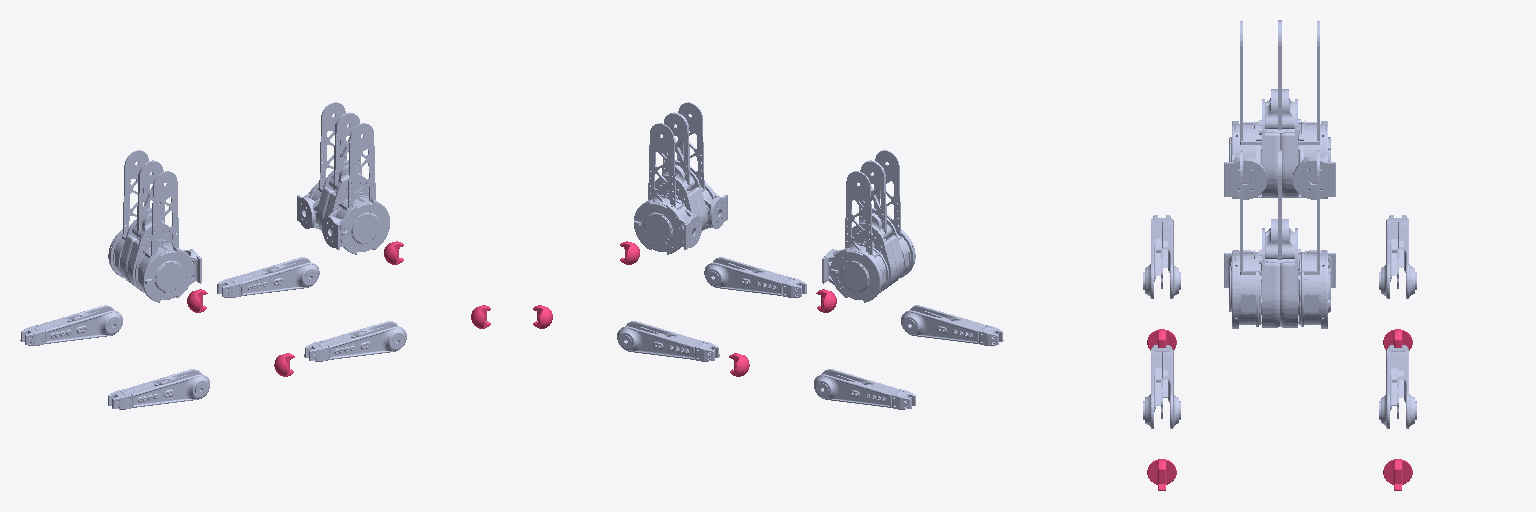
The robot description file, URDF, robot "dog_urdf":
<robot name="dog_urdf">
  <link name="base_link">
    <inertial>
      <origin xyz="-0.0023050784941594 0.000787651476062384 0.00938957145256008" rpy="0 0 0" />
      <mass value="9.0000000000" />
      <inertia ixx="1.48064835303494e-02" ixy="3.53171339749283e-06" ixz="6.62261094637585e-07" iyy="1.51006055478917e-02" iyz="7.33763291488142e-07" izz="1.52899635039474e-02" />
    </inertial>
    <visual>
      <origin xyz="0 0 0" rpy="3.14159 0 0" />
      <geometry>
        <mesh filename="../meshes/base_link.STL" />
      </geometry>
      <material name="body_material">
        <color rgba="0.792156862745098 0.819607843137255 0.933333333333333 1" />
      </material>
    </visual>
    <collision>
      <origin xyz="0 0 0.01" rpy="0 0 0" />
      <geometry>
        <box size="0.30 0.12 0.08" />
      </geometry>
    </collision>
  </link>
  <link name="FL_hip">
    <inertial>
      <origin xyz="0.0586708362293079 0.00174712967469963 -7.8795421490147E-05" rpy="0 0 0" />
      <mass value="0.2463205344" />
      <inertia ixx="1.55954745885730e-04" ixy="-1.45018353691360e-07" ixz="-3.56603783394617e-07" iyy="2.63543430858874e-04" iyz="-2.77546614232254e-08" izz="1.37377859042318e-04" />
    </inertial>
    <visual>
      <origin xyz="0 0 0" rpy="3.14159 0 0" />
      <geometry>
        <mesh filename="../meshes/FL_hip.STL" />
      </geometry>
      <material name="body_material">
        <color rgba="0.792156862745098 0.819607843137255 0.933333333333333 1" />
      </material>
    </visual>
    <collision>
      <origin xyz="0.03 0 0" rpy="0 1.5708 0" />
      <geometry>
        <cylinder radius="0.025" length="0.06" />
      </geometry>
    </collision>
  </link>
  <joint name="FL_hip_joint" type="revolute">
    <origin xyz="0.1426 0.046487 0" rpy="0 0 0" />
    <parent link="base_link" />
    <child link="FL_hip" />
    <axis xyz="1 0 0" />
    <dynamics damping="0.0" friction="0.0" />
    <limit lower="-0.5" upper="0.5" effort="40" velocity="12" />
  </joint>
  <link name="FL_thigh">
    <inertial>
      <origin xyz="3.96131492397256E-06 0.0530216135226285 -0.0127549994713949" rpy="0 0 0" />
      <mass value="1.0473704250" />
      <inertia ixx="1.07009014708276e-03" ixy="-2.71116309698148e-07" ixz="-7.25224218900565e-07" iyy="1.53584383900832e-03" iyz="-1.67886572726257e-05" izz="8.27337160030995e-04" />
    </inertial>
    <visual>
      <origin xyz="0 0 0" rpy="3.14159 0 0" />
      <geometry>
        <mesh filename="../meshes/FL_thigh.STL" />
      </geometry>
      <material name="body_material">
        <color rgba="0.792156862745098 0.819607843137255 0.933333333333333 1" />
      </material>
    </visual>
    <collision>
      <origin xyz="0 0.055 -0.09" rpy="0 0.35 0" />
      <geometry>
        <cylinder radius="0.03" length="0.18" />
      </geometry>
    </collision>
  </link>
  <joint name="FL_thigh_joint" type="revolute">
    <origin xyz="0.0645133382530963 0.0204632257018415 0" rpy="0 0 0" />
    <parent link="FL_hip" />
    <child link="FL_thigh" />
    <axis xyz="0 1 0" />
    <dynamics damping="0.0" friction="0.0" />
    <limit lower="-1.90" upper="1.92" effort="55" velocity="14" />
  </joint>
  <link name="FL_calf">
    <inertial>
      <origin xyz="3.05292895786818E-05 -9.36885009469417E-05 -0.0670819670227258" rpy="0 0 0" />
      <mass value="0.1871429953" />
      <inertia ixx="3.71936645048264e-04" ixy="1.02703586535616e-07" ixz="-3.32826178340773e-07" iyy="3.89065673843671e-04" iyz="-1.37970846722071e-06" izz="2.45204640634943e-05" />
    </inertial>
    <visual>
      <origin xyz="0 0 0" rpy="3.14159 0 0" />
      <geometry>
        <mesh filename="../meshes/FL_calf.STL" />
      </geometry>
      <material name="body_material">
        <color rgba="0.792156862745098 0.819607843137255 0.933333333333333 1" />
      </material>
    </visual>
    <collision>
      <origin xyz="0 0 -0.09" rpy="0 0 0" />
      <geometry>
        <cylinder radius="0.022" length="0.18" />
      </geometry>
    </collision>
  </link>
  <joint name="FL_calf_joint" type="revolute">
    <origin xyz="-1.42640517181852E-05 0.0922000000000003 -0.179998920942403" rpy="0 0 0" />
    <parent link="FL_thigh" />
    <child link="FL_calf" />
    <axis xyz="0 1 0" />
    <dynamics damping="0.0" friction="0.0" />
    <limit lower="-2.80" upper="-0.28" effort="55" velocity="14" />
  </joint>
  <link name="FL_foot">
    <inertial>
      <origin xyz="3.03153155772895E-08 3.64375196681976E-13 0.00474142838422875" rpy="0 0 0" />
      <mass value="0.0191660453" />
      <inertia ixx="2.13676021551699e-06" ixy="-1.60287968570315e-11" ixz="-6.52325547932652e-12" iyy="3.43246034947566e-06" iyz="2.07705959941808e-16" izz="3.15697183363977e-06" />
    </inertial>
    <visual>
      <origin xyz="0 0 0" rpy="3.14159 0 0" />
      <geometry>
        <mesh filename="../meshes/FL_foot.STL" />
      </geometry>
      <material name="foot_material">
        <color rgba="1 0.341176470588235 0.56078431372549 1" />
      </material>
    </visual>
    <collision>
      <origin xyz="0 0 0" rpy="0 0 0" />
      <geometry>
        <sphere radius="0.022" />
      </geometry>
    </collision>
  </link>
  <joint name="FL_foot_joint" type="fixed">
    <origin xyz="0 0 -0.181256552442634" rpy="0 0 0" />
    <parent link="FL_calf" />
    <child link="FL_foot" />
    <dont_collapse />
  </joint>
  <link name="FR_hip">
    <inertial>
      <origin xyz="0.0586708362293078 -0.00172067827101646 8.04098946586701E-05" rpy="0 0 0" />
      <mass value="0.2463205344" />
      <inertia ixx="1.55954745890325e-04" ixy="1.45018353695813e-07" ixz="3.56603783406158e-07" iyy="2.63543430866635e-04" iyz="-2.77546614236587e-08" izz="1.37377859046362e-04" />
    </inertial>
    <visual>
      <origin xyz="0 0 0" rpy="3.14159 0 0" />
      <geometry>
        <mesh filename="../meshes/FR_hip.STL" />
      </geometry>
      <material name="body_material">
        <color rgba="0.792156862745098 0.819607843137255 0.933333333333333 1" />
      </material>
    </visual>
    <collision>
      <origin xyz="0.03 0 0" rpy="0 1.5708 0" />
      <geometry>
        <cylinder radius="0.025" length="0.06" />
      </geometry>
    </collision>
  </link>
  <joint name="FR_hip_joint" type="revolute">
    <origin xyz="0.1426 -0.046513 0" rpy="0 0 0" />
    <parent link="base_link" />
    <child link="FR_hip" />
    <axis xyz="-1 0 0" />
    <dynamics damping="0.0" friction="0.0" />
    <limit lower="-0.5" upper="0.5" effort="40" velocity="12" />
  </joint>
  <link name="FR_thigh">
    <inertial>
      <origin xyz="-3.04126993064119E-05 -0.0530216135200461 -0.0127566141119383" rpy="0 0 0" />
      <mass value="1.0473704250" />
      <inertia ixx="1.07009014691618e-03" ixy="-2.71116591518463e-07" ixz="7.25223850272426e-07" iyy="1.53584383887171e-03" iyz="1.67886571834105e-05" izz="8.27337159969872e-04" />
    </inertial>
    <visual>
      <origin xyz="0 0 0" rpy="3.14159 0 0" />
      <geometry>
        <mesh filename="../meshes/FR_thigh.STL" />
      </geometry>
      <material name="body_material">
        <color rgba="0.792156862745098 0.819607843137255 0.933333333333333 1" />
      </material>
    </visual>
    <collision>
      <origin xyz="0 -0.055 -0.09" rpy="0 -0.35 0" />
      <geometry>
        <cylinder radius="0.03" length="0.18" />
      </geometry>
    </collision>
  </link>
  <joint name="FR_thigh_joint" type="revolute">
    <origin xyz="0.0645133382530963 -0.0204367742981588 0" rpy="0 0 0" />
    <parent link="FR_hip" />
    <child link="FR_thigh" />
    <axis xyz="0 1 0" />
    <dynamics damping="0.0" friction="0.0" />
    <limit lower="-1.90" upper="1.92" effort="55" velocity="14" />
  </joint>
  <link name="FR_calf">
    <inertial>
      <origin xyz="-3.05292895772663E-05 9.36885009465982E-05 -0.067081967022727" rpy="0 0 0" />
      <mass value="0.1871429953" />
      <inertia ixx="3.71936645059219e-04" ixy="1.02703586538641e-07" ixz="3.32826178349963e-07" iyy="3.89065673855131e-04" iyz="1.37970846726135e-06" izz="2.45204640642166e-05" />
    </inertial>
    <visual>
      <origin xyz="0 0 0" rpy="3.14159 0 0" />
      <geometry>
        <mesh filename="../meshes/FR_calf.STL" />
      </geometry>
      <material name="body_material">
        <color rgba="0.792156862745098 0.819607843137255 0.933333333333333 1" />
      </material>
    </visual>
    <collision>
      <origin xyz="0 0 -0.09" rpy="0 0 0" />
      <geometry>
        <cylinder radius="0.022" length="0.18" />
      </geometry>
    </collision>
  </link>
  <joint name="FR_calf_joint" type="revolute">
    <origin xyz="-1.21873416425722E-05 -0.0922 -0.1800005355847" rpy="0 0 0" />
    <parent link="FR_thigh" />
    <child link="FR_calf" />
    <axis xyz="0 1 0" />
    <dynamics damping="0.0" friction="0.0" />
    <limit lower="-2.80" upper="-0.28" effort="55" velocity="14" />
  </joint>
  <link name="FR_foot">
    <inertial>
      <origin xyz="-3.03153155911673E-08 -3.64430707833208E-13 0.0047414283842287" rpy="0 0 0" />
      <mass value="0.0191660453" />
      <inertia ixx="2.13676021557989e-06" ixy="-1.60287968552802e-11" ixz="6.52325547941765e-12" iyy="3.43246034957671e-06" iyz="-2.07704762031196e-16" izz="3.15697183373271e-06" />
    </inertial>
    <visual>
      <origin xyz="0 0 0" rpy="3.14159 0 0" />
      <geometry>
        <mesh filename="../meshes/FR_foot.STL" />
      </geometry>
      <material name="foot_material">
        <color rgba="1 0.341176470588235 0.56078431372549 1" />
      </material>
    </visual>
    <collision>
      <origin xyz="0 0 0" rpy="0 0 0" />
      <geometry>
        <sphere radius="0.022" />
      </geometry>
    </collision>
  </link>
  <joint name="FR_foot_joint" type="fixed">
    <origin xyz="0 0 -0.181256552442636" rpy="0 0 0" />
    <parent link="FR_calf" />
    <child link="FR_foot" />
    <dont_collapse />
  </joint>
  <link name="RL_hip">
    <inertial>
      <origin xyz="-0.0586708362289704 0.00172067827077711 8.04098945089288E-05" rpy="0 0 0" />
      <mass value="0.2463205344" />
      <inertia ixx="1.55954745895733e-04" ixy="1.45018353515038e-07" ixz="-3.56603783048914e-07" iyy="2.63543430875567e-04" iyz="2.77546615577607e-08" izz="1.37377859050852e-04" />
    </inertial>
    <visual>
      <origin xyz="0 0 0" rpy="3.14159 0 0" />
      <geometry>
        <mesh filename="../meshes/RL_hip.STL" />
      </geometry>
      <material name="body_material">
        <color rgba="0.792156862745098 0.819607843137255 0.933333333333333 1" />
      </material>
    </visual>
    <collision>
      <origin xyz="-0.03 0 0" rpy="0 1.5708 0" />
      <geometry>
        <cylinder radius="0.025" length="0.06" />
      </geometry>
    </collision>
  </link>
  <joint name="RL_hip_joint" type="revolute">
    <origin xyz="-0.1426 0.046513 0" rpy="0 0 0" />
    <parent link="base_link" />
    <child link="RL_hip" />
    <axis xyz="1 0 0" />
    <dynamics damping="0.0" friction="0.0" />
    <limit lower="-0.5" upper="0.5" effort="40" velocity="12" />
  </joint>
  <link name="RL_thigh">
    <inertial>
      <origin xyz="3.04126992746734E-05 0.0530216135200473 -0.0127566141119536" rpy="0 0 0" />
      <mass value="1.0473704250" />
      <inertia ixx="1.07009014695559e-03" ixy="-2.71116591675352e-07" ixz="-7.25223850311965e-07" iyy="1.53584383892923e-03" iyz="-1.67886571840335e-05" izz="8.27337160001331e-04" />
    </inertial>
    <visual>
      <origin xyz="0 0 0" rpy="3.14159 0 0" />
      <geometry>
        <mesh filename="../meshes/RL_thigh.STL" />
      </geometry>
      <material name="body_material">
        <color rgba="0.792156862745098 0.819607843137255 0.933333333333333 1" />
      </material>
    </visual>
    <collision>
      <origin xyz="0 0.055 -0.09" rpy="0 0.35 0" />
      <geometry>
        <cylinder radius="0.03" length="0.18" />
      </geometry>
    </collision>
  </link>
  <joint name="RL_thigh_joint" type="revolute">
    <origin xyz="-0.0645133382530961 0.0204367742981585 0" rpy="0 0 0" />
    <parent link="RL_hip" />
    <child link="RL_thigh" />
    <axis xyz="0 1 0" />
    <dynamics damping="0.0" friction="0.0" />
    <limit lower="-1.90" upper="1.92" effort="55" velocity="14" />
  </joint>
  <link name="RL_calf">
    <inertial>
      <origin xyz="-3.13871287594969E-05 9.36885016845218E-05 -0.0670819666251215" rpy="0 0 0" />
      <mass value="0.1871429953" />
      <inertia ixx="3.71936636459648e-04" ixy="1.02721230226975e-07" ixz="3.37268913955089e-07" iyy="3.89065673821826e-04" iyz="1.37970715383091e-06" izz="2.45204726311381e-05" />
    </inertial>
    <visual>
      <origin xyz="0 0 0" rpy="3.14159 0 0" />
      <geometry>
        <mesh filename="../meshes/RL_calf.STL" />
      </geometry>
      <material name="body_material">
        <color rgba="0.792156862745098 0.819607843137255 0.933333333333333 1" />
      </material>
    </visual>
    <collision>
      <origin xyz="0 0 -0.09" rpy="0 0 0" />
      <geometry>
        <cylinder radius="0.022" length="0.18" />
      </geometry>
    </collision>
  </link>
  <joint name="RL_calf_joint" type="revolute">
    <origin xyz="1.21873416414897E-05 0.0922000000000003 -0.180000535584701" rpy="0 0 0" />
    <parent link="RL_thigh" />
    <child link="RL_calf" />
    <axis xyz="0 1 0" />
    <dynamics damping="0.0" friction="0.0" />
    <limit lower="-2.80" upper="-0.28" effort="55" velocity="14" />
  </joint>
  <link name="RL_foot">
    <inertial>
      <origin xyz="3.03161081238734E-08 -2.64765639967912E-13 0.00474142838422875" rpy="0 0 0" />
      <mass value="0.0191660453" />
      <inertia ixx="2.13676021565854e-06" ixy="-1.60287968587424e-11" ixz="-6.52302178040707e-12" iyy="3.43246034970306e-06" iyz="-1.19408980401900e-17" izz="3.15697183384894e-06" />
    </inertial>
    <visual>
      <origin xyz="0 0 0" rpy="3.14159 0 0" />
      <geometry>
        <mesh filename="../meshes/RL_foot.STL" />
      </geometry>
      <material name="foot_material">
        <color rgba="1 0.341176470588235 0.56078431372549 1" />
      </material>
    </visual>
    <collision>
      <origin xyz="0 0 0" rpy="0 0 0" />
      <geometry>
        <sphere radius="0.022" />
      </geometry>
    </collision>
  </link>
  <joint name="RL_foot_joint" type="fixed">
    <origin xyz="0 0 -0.181256552442636" rpy="0 0 0" />
    <parent link="RL_calf" />
    <child link="RL_foot" />
    <dont_collapse />
  </joint>
  <link name="RR_hip">
    <inertial>
      <origin xyz="-0.0586708362293077 -0.00174712967469903 -7.87954214898356E-05" rpy="0 0 0" />
      <mass value="0.2463205344" />
      <inertia ixx="1.55954745890387e-04" ixy="-1.45018353695857e-07" ixz="3.56603783406230e-07" iyy="2.63543430866745e-04" iyz="2.77546614237149e-08" izz="1.37377859046420e-04" />
    </inertial>
    <visual>
      <origin xyz="0 0 0" rpy="3.14159 0 0" />
      <geometry>
        <mesh filename="../meshes/RR_hip.STL" />
      </geometry>
      <material name="body_material">
        <color rgba="0.792156862745098 0.819607843137255 0.933333333333333 1" />
      </material>
    </visual>
    <collision>
      <origin xyz="-0.03 0 0" rpy="0 1.5708 0" />
      <geometry>
        <cylinder radius="0.025" length="0.06" />
      </geometry>
    </collision>
  </link>
  <joint name="RR_hip_joint" type="revolute">
    <origin xyz="-0.1426 -0.0464867742981584 0" rpy="0 0 0" />
    <parent link="base_link" />
    <child link="RR_hip" />
    <axis xyz="-1 0 0" />
    <dynamics damping="0.0" friction="0.0" />
    <limit lower="-0.5" upper="0.5" effort="40" velocity="12" />
  </joint>
  <link name="RR_thigh">
    <inertial>
      <origin xyz="-3.9613059413246E-06 -0.0530216135200264 -0.0127549994696267" rpy="0 0 0" />
      <mass value="1.0473704250" />
      <inertia ixx="1.07009014691659e-03" ixy="-2.71116591501289e-07" ixz="7.25223850285074e-07" iyy="1.53584383887227e-03" iyz="1.67886571834168e-05" izz="8.27337159970138e-04" />
    </inertial>
    <visual>
      <origin xyz="0 0 0" rpy="3.14159 0 0" />
      <geometry>
        <mesh filename="../meshes/RR_thigh.STL" />
      </geometry>
      <material name="body_material">
        <color rgba="0.792156862745098 0.819607843137255 0.933333333333333 1" />
      </material>
    </visual>
    <collision>
      <origin xyz="0 -0.055 -0.09" rpy="0 -0.35 0" />
      <geometry>
        <cylinder radius="0.03" length="0.18" />
      </geometry>
    </collision>
  </link>
  <joint name="RR_thigh_joint" type="revolute">
    <origin xyz="-0.0645133382530962 -0.0204632257018415 0" rpy="0 0 0" />
    <parent link="RR_hip" />
    <child link="RR_thigh" />
    <axis xyz="0 1 0" />
    <dynamics damping="0.0" friction="0.0" />
    <limit lower="-1.90" upper="1.92" effort="55" velocity="14" />
  </joint>
  <link name="RR_calf">
    <inertial>
      <origin xyz="-3.05292895770859E-05 9.36885009470423E-05 -0.0670819670227266" rpy="0 0 0" />
      <mass value="0.1871429953" />
      <inertia ixx="3.71936645059361e-04" ixy="1.02703586538682e-07" ixz="3.32826178350113e-07" iyy="3.89065673855279e-04" iyz="1.37970846726184e-06" izz="2.45204640642260e-05" />
    </inertial>
    <visual>
      <origin xyz="0 0 0" rpy="3.14159 0 0" />
      <geometry>
        <mesh filename="../meshes/RR_calf.STL" />
      </geometry>
      <material name="body_material">
        <color rgba="0.792156862745098 0.819607843137255 0.933333333333333 1" />
      </material>
    </visual>
    <collision>
      <origin xyz="0 0 -0.09" rpy="0 0 0" />
      <geometry>
        <cylinder radius="0.022" length="0.18" />
      </geometry>
    </collision>
  </link>
  <joint name="RR_calf_joint" type="revolute">
    <origin xyz="1.42640517169501E-05 -0.0922000000000003 -0.179998920942402" rpy="0 0 0" />
    <parent link="RR_thigh" />
    <child link="RR_calf" />
    <axis xyz="0 1 0" />
    <dynamics damping="0.0" friction="0.0" />
    <limit lower="-2.80" upper="-0.28" effort="55" velocity="14" />
  </joint>
  <link name="RR_foot">
    <inertial>
      <origin xyz="-3.03153156466784E-08 -3.64319685530745E-13 0.00474142838422886" rpy="0 0 0" />
      <mass value="0.0191660453" />
      <inertia ixx="2.13676021558073e-06" ixy="-1.60287968590663e-11" ixz="6.52325549084054e-12" iyy="3.43246034957808e-06" iyz="-2.07705448960204e-16" izz="3.15697183373396e-06" />
    </inertial>
    <visual>
      <origin xyz="0 0 0" rpy="3.14159 0 0" />
      <geometry>
        <mesh filename="../meshes/RR_foot.STL" />
      </geometry>
      <material name="foot_material">
        <color rgba="1 0.341176470588235 0.56078431372549 1" />
      </material>
    </visual>
    <collision>
      <origin xyz="0 0 0" rpy="0 0 0" />
      <geometry>
        <sphere radius="0.022" />
      </geometry>
    </collision>
  </link>
  <joint name="RR_foot_joint" type="fixed">
    <origin xyz="0 0 -0.181256552442637" rpy="0 0 0" />
    <parent link="RR_calf" />
    <child link="RR_foot" />
    <dont_collapse />
  </joint>

  
  <link name="camera_link" />
  <joint name="camera_joint" type="fixed">
    <parent link="base_link" />
    <child link="camera_link" />
    <origin xyz="0.238 -0.012 0.068" rpy="0 0.5236 0" />
  </joint>

  <gazebo reference="FL_foot"><mu1>100.0</mu1><mu2>100.0</mu2><kp>60.0</kp><kd>800.0</kd><minDepth>0.002</minDepth><maxVel>1.0</maxVel></gazebo>
  <gazebo reference="FR_foot"><mu1>100.0</mu1><mu2>100.0</mu2><kp>60.0</kp><kd>800.0</kd><minDepth>0.002</minDepth><maxVel>1.0</maxVel></gazebo>
  <gazebo reference="RL_foot"><mu1>100.0</mu1><mu2>100.0</mu2><kp>60.0</kp><kd>800.0</kd><minDepth>0.002</minDepth><maxVel>1.0</maxVel></gazebo>
  <gazebo reference="RR_foot"><mu1>100.0</mu1><mu2>100.0</mu2><kp>60.0</kp><kd>800.0</kd><minDepth>0.002</minDepth><maxVel>1.0</maxVel></gazebo>

  <ros2_control name="gazebo_system" type="system">
    <hardware><plugin>gazebo_ros2_control/GazeboSystem</plugin></hardware>
    <joint name="FL_hip_joint"><command_interface name="position" /><state_interface name="position" /><state_interface name="velocity" /></joint>
    <joint name="FL_thigh_joint"><command_interface name="position" /><state_interface name="position" /><state_interface name="velocity" /></joint>
    <joint name="FL_calf_joint"><command_interface name="position" /><state_interface name="position" /><state_interface name="velocity" /></joint>
    <joint name="FR_hip_joint"><command_interface name="position" /><state_interface name="position" /><state_interface name="velocity" /></joint>
    <joint name="FR_thigh_joint"><command_interface name="position" /><state_interface name="position" /><state_interface name="velocity" /></joint>
    <joint name="FR_calf_joint"><command_interface name="position" /><state_interface name="position" /><state_interface name="velocity" /></joint>
    <joint name="RL_hip_joint"><command_interface name="position" /><state_interface name="position" /><state_interface name="velocity" /></joint>
    <joint name="RL_thigh_joint"><command_interface name="position" /><state_interface name="position" /><state_interface name="velocity" /></joint>
    <joint name="RL_calf_joint"><command_interface name="position" /><state_interface name="position" /><state_interface name="velocity" /></joint>
    <joint name="RR_hip_joint"><command_interface name="position" /><state_interface name="position" /><state_interface name="velocity" /></joint>
    <joint name="RR_thigh_joint"><command_interface name="position" /><state_interface name="position" /><state_interface name="velocity" /></joint>
    <joint name="RR_calf_joint"><command_interface name="position" /><state_interface name="position" /><state_interface name="velocity" /></joint>
  </ros2_control>
  <gazebo>
    <plugin name="gazebo_ros2_control" filename="libgazebo_ros2_control.so">
      <parameters>__CONTROLLER_YAML__</parameters>
    </plugin>
  </gazebo>

  <gazebo reference="base_link">
    <sensor type="imu" name="imu_sensor">
      <always_on>true</always_on>
      <update_rate>200</update_rate>
      <imu>
        <angular_velocity>
          <x><noise type="gaussian" stddev="0.01" /></x>
          <y><noise type="gaussian" stddev="0.01" /></y>
          <z><noise type="gaussian" stddev="0.01" /></z>
        </angular_velocity>
        <linear_acceleration>
          <x><noise type="gaussian" stddev="0.1" /></x>
          <y><noise type="gaussian" stddev="0.1" /></y>
          <z><noise type="gaussian" stddev="0.1" /></z>
        </linear_acceleration>
      </imu>
      <plugin name="gazebo_ros_imu_sensor" filename="libgazebo_ros_imu_sensor.so">
        <ros>
          <namespace>odin1</namespace>
          <remapping>~/out:=imu</remapping>
        </ros>
      </plugin>
    </sensor>
  </gazebo>

  <gazebo reference="base_link">
    <sensor type="depth" name="camera_depth_sensor">
      <always_on>true</always_on>
      <update_rate>30</update_rate>
      <pose>0.238 -0.012 0.068 0 0.5236 0</pose>
      <camera name="camera_depth_camera">
        <horizontal_fov>1.51844</horizontal_fov>
        <image>
          <width>848</width>
          <height>480</height>
          <format>R8G8B8</format>
        </image>
        <clip>
          <near>0.1</near>
          <far>10.0</far>
        </clip>
      </camera>
      <plugin name="camera_depth_plugin" filename="libgazebo_ros_camera.so">
        <ros>
          <namespace>camera</namespace>
          <argument>image_raw:=depth/image_rect_raw</argument>
          <argument>camera_info:=depth/camera_info</argument>
        </ros>
        <camera_name>camera_depth</camera_name>
        <frame_name>camera_depth_optical_frame</frame_name>
        <hack_baseline>0.07</hack_baseline>
      </plugin>
    </sensor>
  </gazebo>

  <link name="camera_depth_optical_frame" />
  <joint name="camera_depth_joint" type="fixed">
    <parent link="base_link" />
    <child link="camera_depth_optical_frame" />
    <origin xyz="0.15 0 0.12" rpy="-1.5707963 0 -1.5707963" />
  </joint>

</robot>

--- Facts derived from the render (not from the file) ---
Views: 3 orthographic renders of the robot side by side, from view 1: azimuth 30°, elevation 25°; view 2: azimuth 150°, elevation 25°; view 3: azimuth 270°, elevation 25°.
Robot: dog_urdf — 19 links, 18 joints (12 revolute, 6 fixed); root link base_link; default pose: all joints at 0 but 4 set to mid-range because 0 is outside their limits (FL_calf_joint = -1.54, FR_calf_joint = -1.54, RL_calf_joint = -1.54, RR_calf_joint = -1.54).
Links seen in each view (by area): view 1: RR_thigh, FR_thigh, RR_calf, FL_calf, FR_calf, RL_calf, RL_thigh, FL_thigh, FR_hip, RR_hip, FL_hip; view 2: RL_thigh, FL_thigh, RR_thigh, RL_calf, FL_calf, FR_calf, RR_calf, FR_thigh, FL_hip, RL_hip, FR_hip; view 3: FL_thigh, FR_thigh, RL_thigh, RR_thigh, RR_hip, FR_calf, FL_calf, RR_calf, RL_calf, RL_hip, FR_hip, FL_hip (+2 smaller).
Boxes of the visible links, x1=… form: RR_thigh: x1=122, y1=150, x2=192, y2=302; FR_thigh: x1=318, y1=102, x2=389, y2=254; RR_calf: x1=108, y1=369, x2=209, y2=409; FL_calf: x1=217, y1=257, x2=319, y2=297; FR_calf: x1=304, y1=321, x2=406, y2=361; RL_calf: x1=20, y1=305, x2=122, y2=345; RL_thigh: x1=108, y1=160, x2=178, y2=285; FL_thigh: x1=309, y1=112, x2=375, y2=230; FR_hip: x1=322, y1=195, x2=379, y2=249; RR_hip: x1=135, y1=243, x2=201, y2=292; FL_hip: x1=297, y1=187, x2=322, y2=228; RL_thigh: x1=831, y1=150, x2=901, y2=302; FL_thigh: x1=634, y1=102, x2=705, y2=254; RR_thigh: x1=845, y1=160, x2=915, y2=285; RL_calf: x1=814, y1=369, x2=915, y2=409; FL_calf: x1=617, y1=321, x2=719, y2=361; FR_calf: x1=704, y1=257, x2=806, y2=297; RR_calf: x1=901, y1=305, x2=1003, y2=345; FR_thigh: x1=648, y1=112, x2=714, y2=230; FL_hip: x1=644, y1=195, x2=701, y2=249; RL_hip: x1=822, y1=243, x2=888, y2=291; FR_hip: x1=701, y1=187, x2=727, y2=228; FL_thigh: x1=1240, y1=150, x2=1330, y2=328; FR_thigh: x1=1230, y1=150, x2=1319, y2=328; RL_thigh: x1=1240, y1=20, x2=1329, y2=198; RR_thigh: x1=1230, y1=20, x2=1319, y2=198; RR_hip: x1=1224, y1=122, x2=1266, y2=199; FR_calf: x1=1143, y1=345, x2=1180, y2=428; FL_calf: x1=1379, y1=345, x2=1416, y2=428; RR_calf: x1=1143, y1=215, x2=1180, y2=298; RL_calf: x1=1379, y1=215, x2=1416, y2=298; RL_hip: x1=1293, y1=122, x2=1335, y2=199; FR_hip: x1=1224, y1=250, x2=1258, y2=326; FL_hip: x1=1301, y1=250, x2=1335, y2=326.
Bounding box of the posed robot: 0.8006 × 0.3683 × 0.413 m (x, y, z).
16 mesh visuals loaded from 17 distinct referenced files (16 binary STL); not drawn: 1 (reference not matched to a file when rendering).
